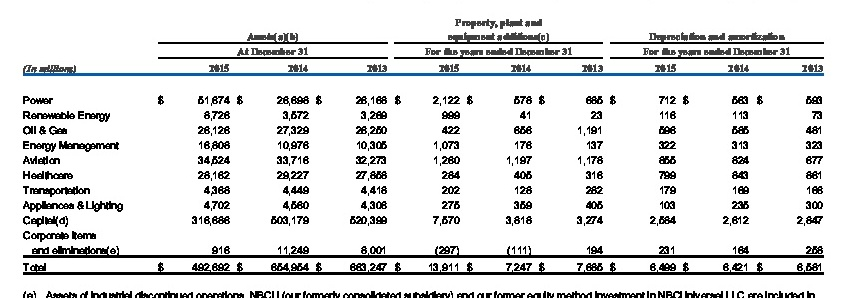table: (0, 0, 841, 298)
